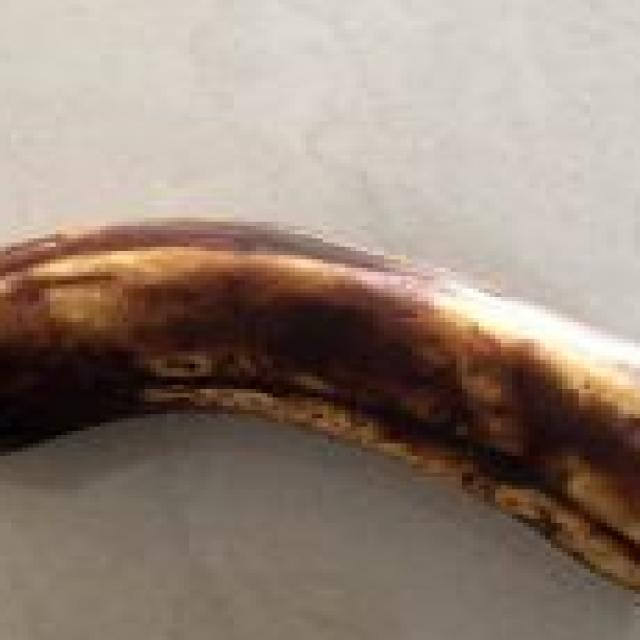Bad_Banana-0 day: (0, 224, 640, 596)
